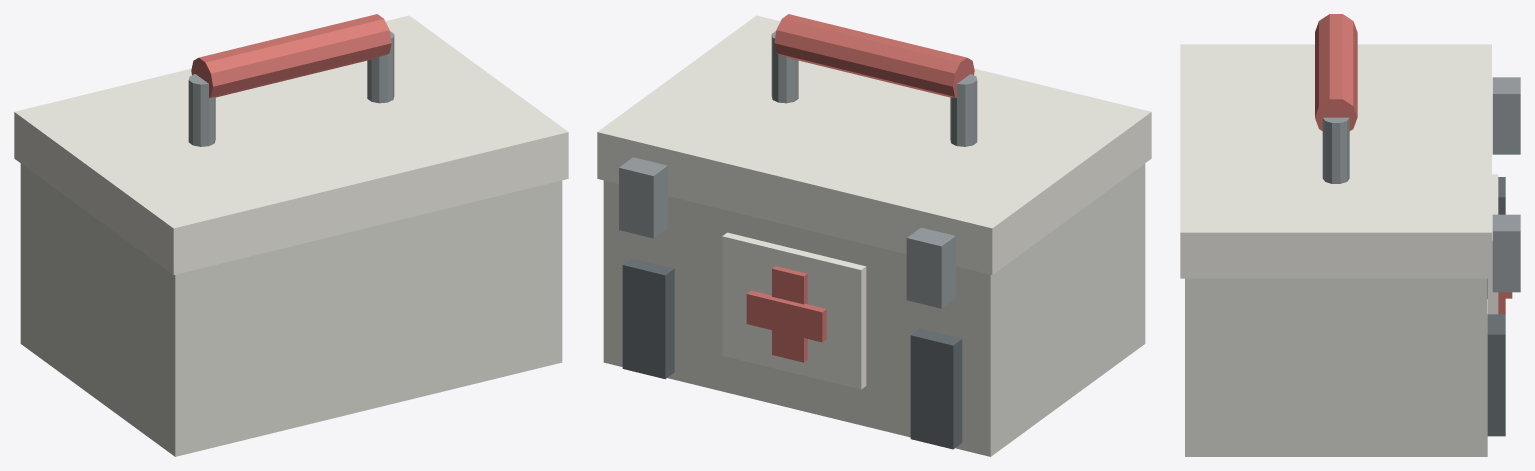
Rendered from medkit.fbx.
The picture shows the model from 3 angles, left to right: view 1: azimuth 30°, elevation 25°; view 2: azimuth 150°, elevation 25°; view 3: azimuth 270°, elevation 25°; orthographic projection. The views are drawn at different scales.
Parts seen in each view (by area): view 1: medkit; view 2: medkit; view 3: medkit.
Part boxes in pixels (<box>): medkit: <box>14,14,568,456</box>; medkit: <box>597,14,1151,456</box>; medkit: <box>1180,14,1520,456</box>.
Bounding box in the file's own units: 0.398 × 0.3031 × 0.3035.
